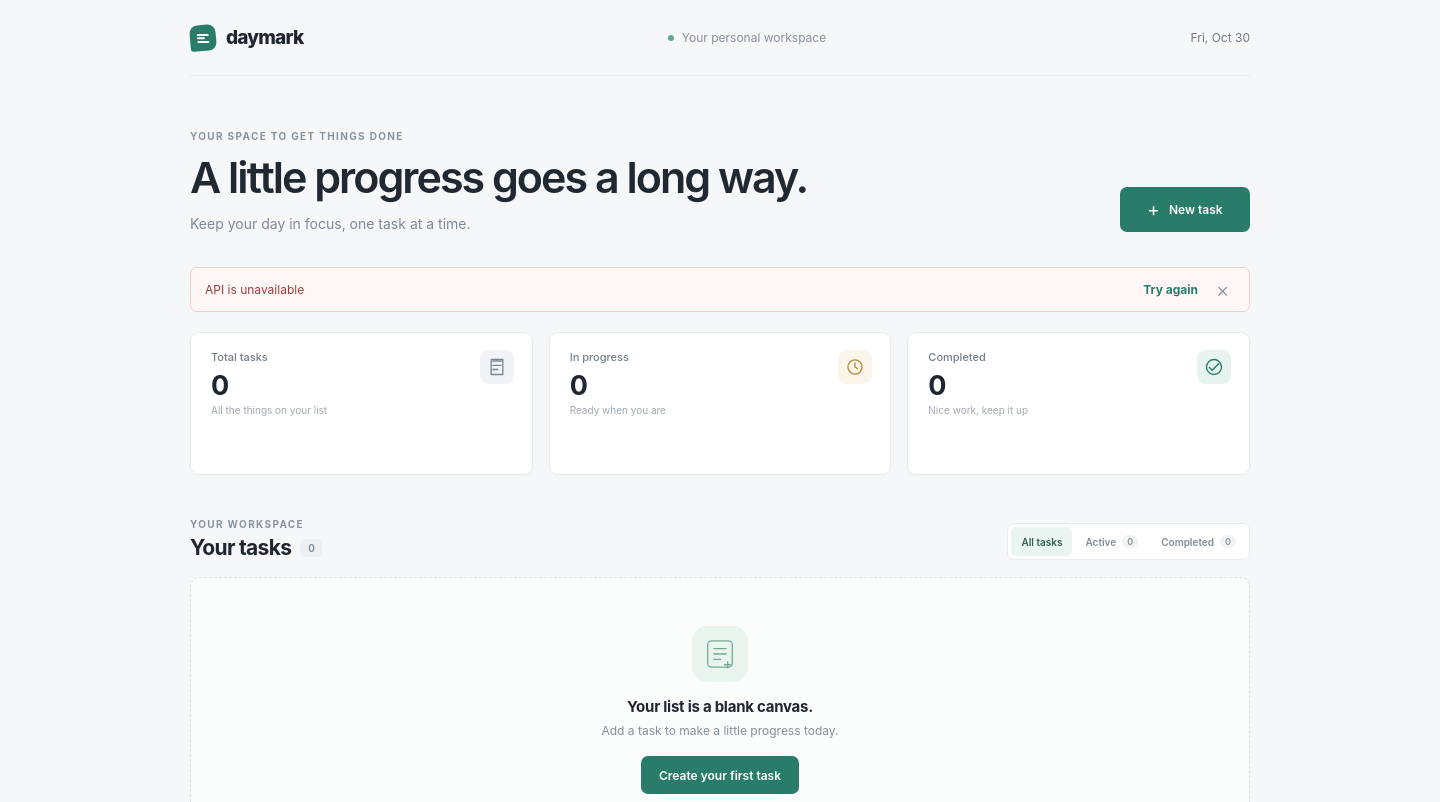
Tasks dashboard › reports load errors and retries the request
Check: the message shows "API is unavailable", box [205,282,304,297]
Click the button "Try again".
click(1171, 290)  # box [1143,279,1198,300]
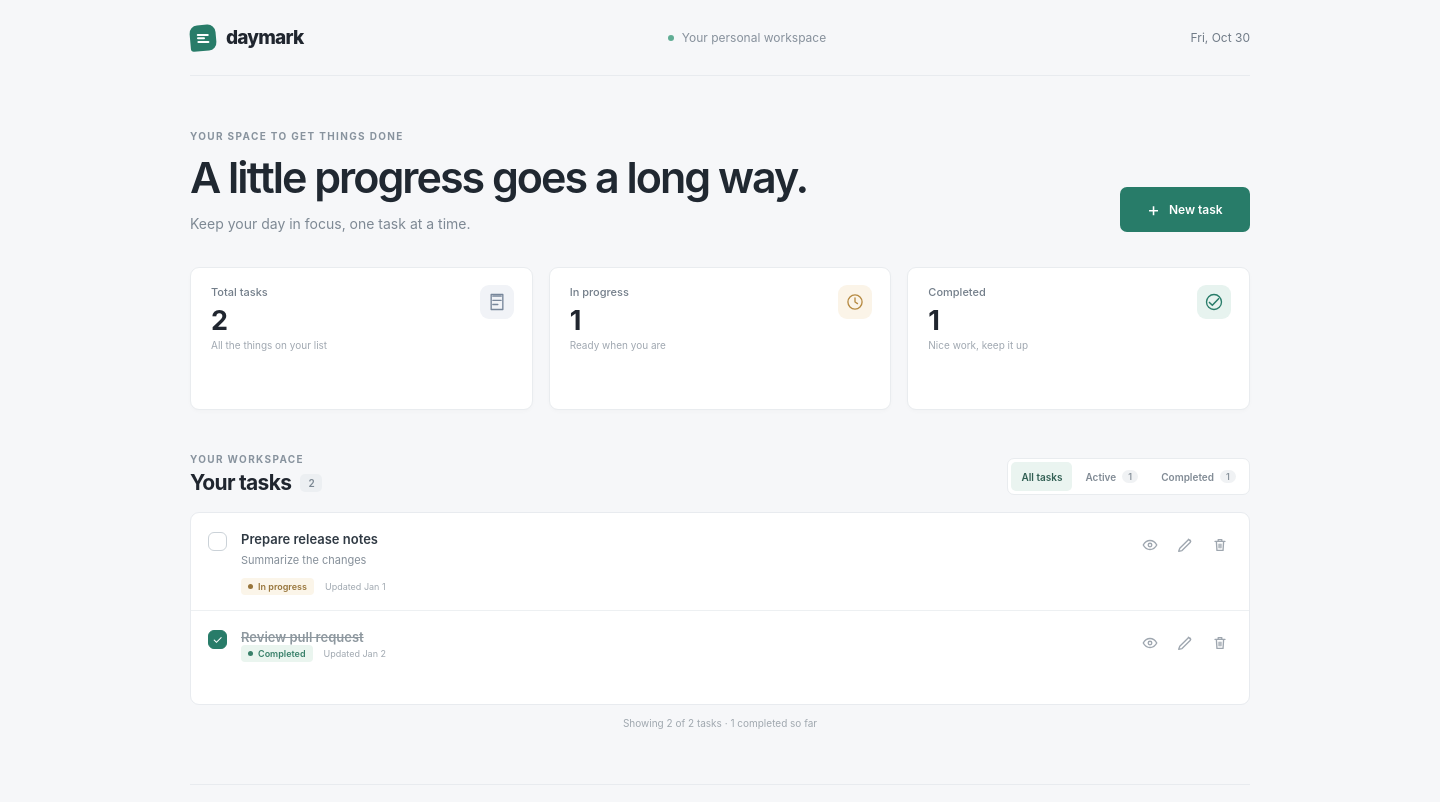
Check: the button "Prepare release notes" is shown, box [241,531,378,547]
